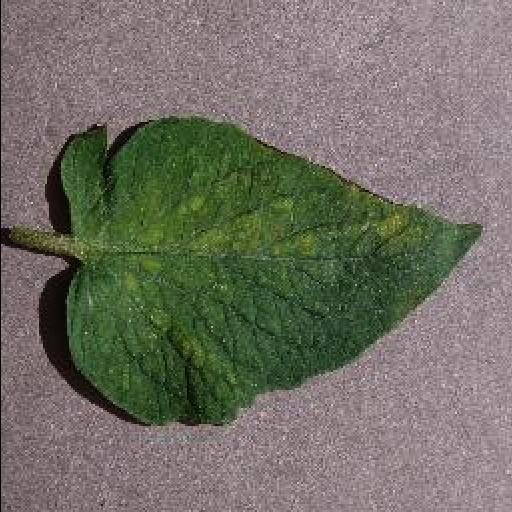disease_tomato: (60, 117, 484, 427)
